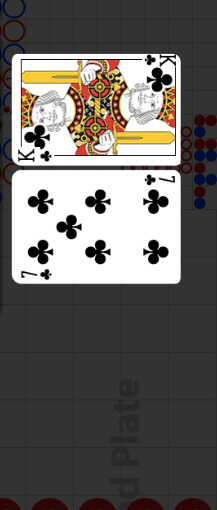7C: (19, 267, 54, 281)
KC: (16, 146, 57, 164)
